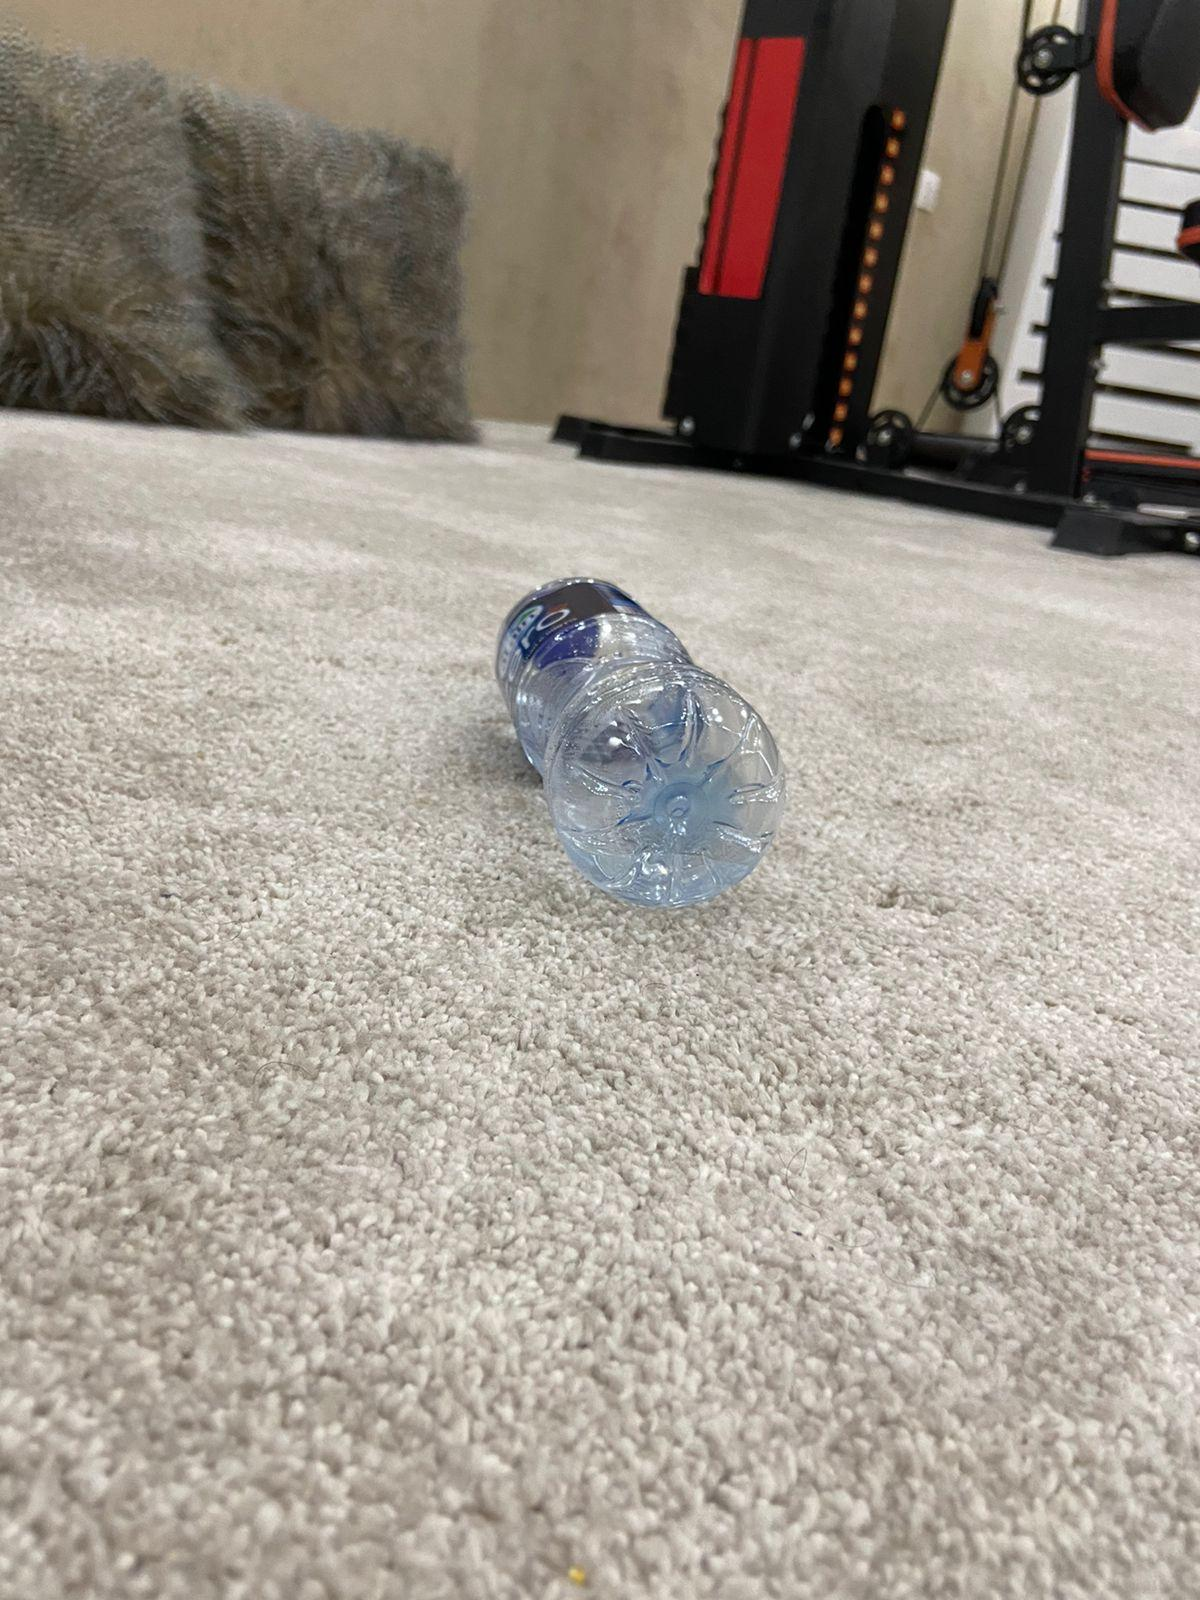bottle: (488, 564, 794, 925)
